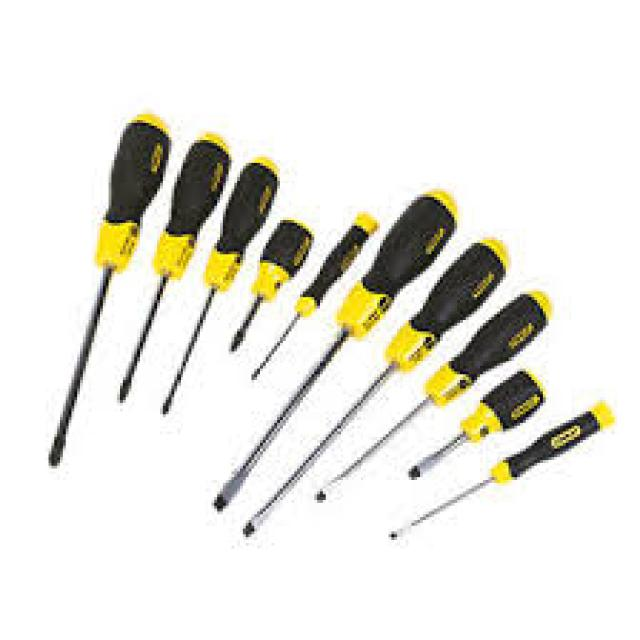screw driver: (328, 370, 638, 592), (39, 99, 174, 500), (224, 204, 309, 363)
